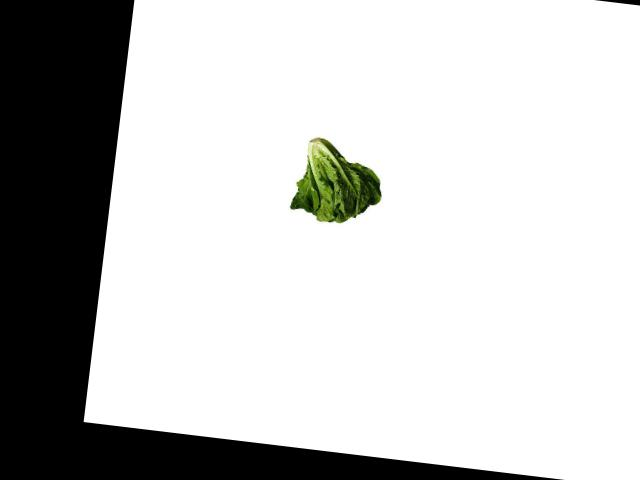lettuce: (286, 130, 389, 231)
